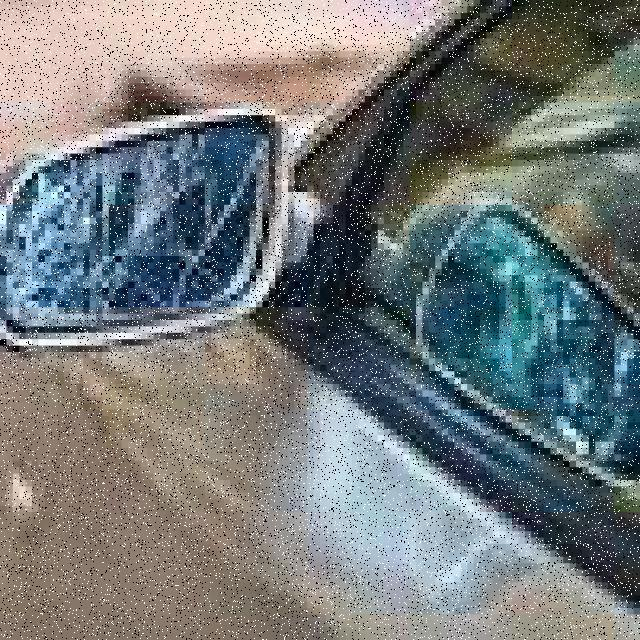Sidemirror-Damage: (0, 108, 295, 346)
